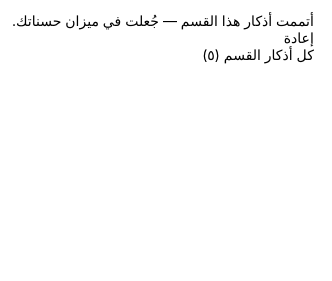
Test: AdhkarFlow › keeps the complete reference available after the flow finishes
Click the button with test id "adhkar-flow-reference-toggle" at [269, 54], box [12,46,314,63]
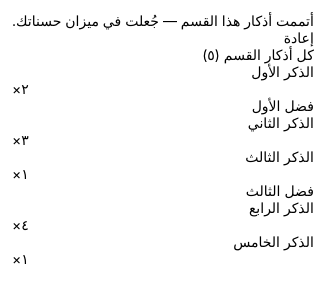
Result: the text "فضل الأول" is shown at [252,97,314,114]
